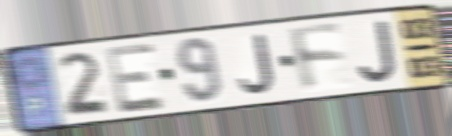2: (60, 49, 113, 121)
9: (174, 35, 225, 107)
E: (103, 39, 169, 116)
F: (286, 22, 348, 96)
J: (356, 18, 399, 85), (236, 32, 277, 96)
